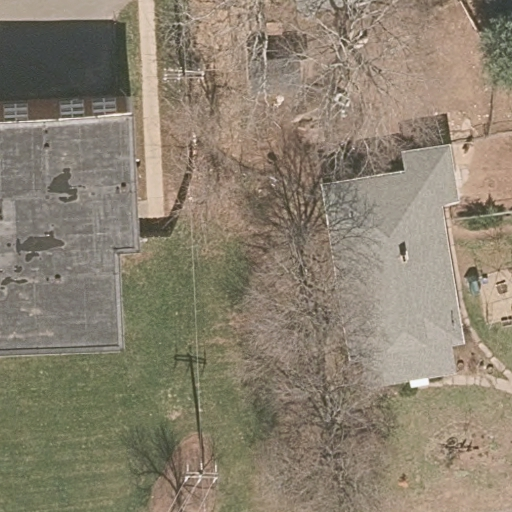DT: (182, 462, 219, 487)
